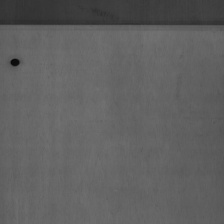welding_line: (1, 19, 224, 35), (8, 55, 22, 68)
